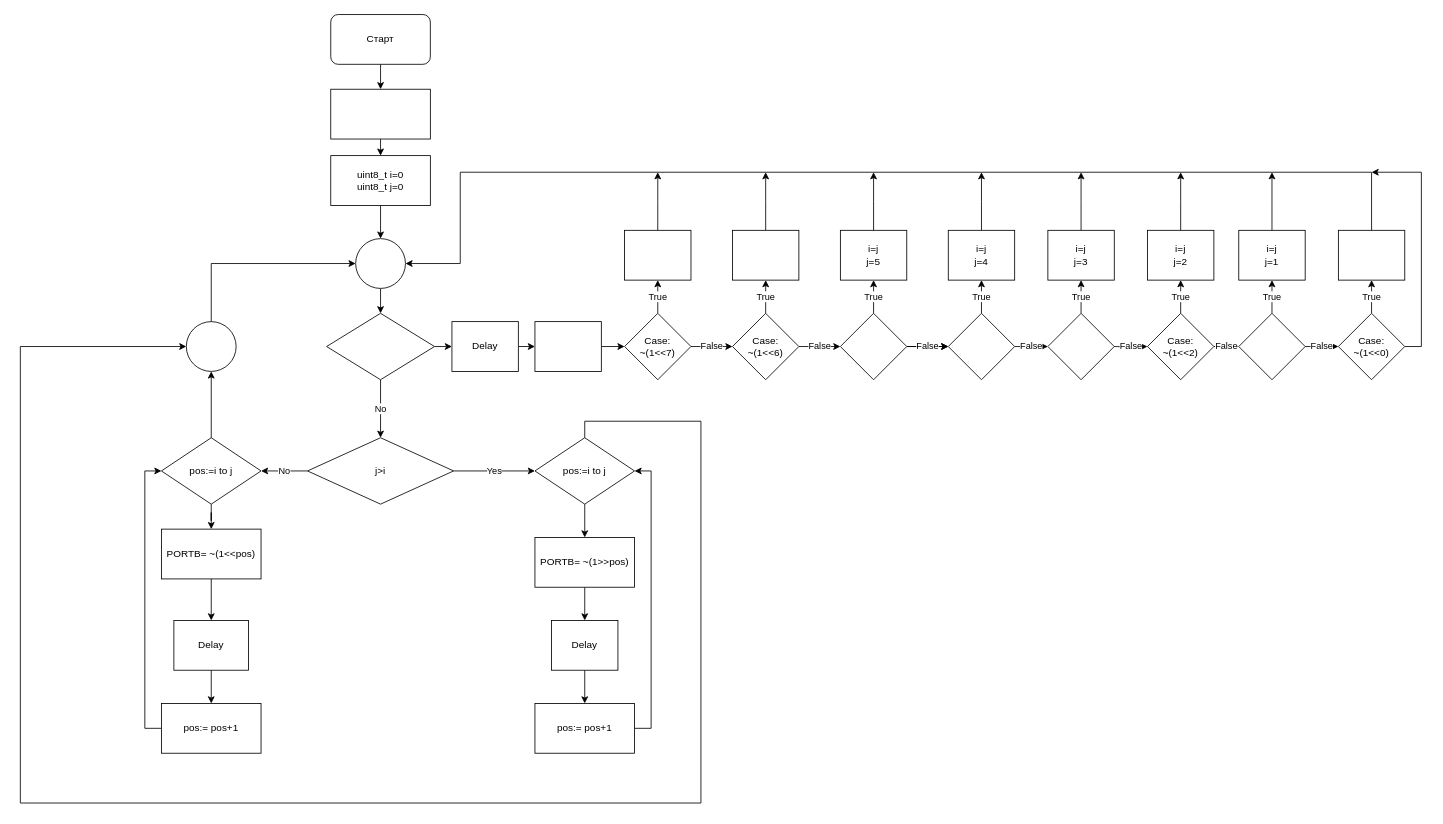
Some shapes in this 1443 by 824 pixel diagram are drawn without their labels. Each missing label, with the centre of its shape:
Case: ~(1<<1): pixel 1271 346
Case: ~(1<<3): pixel 1080 346
Case: ~(1<<4): pixel 981 346
Case: ~(1<<5): pixel 873 346
DDRB= 0xFF; PORTB = 0xFF; DDRD = 0x00; PORTD = 0xFF;: pixel 380 113
i=j j=0: pixel 1371 254
i=j j=6: pixel 765 254
i=j j=7: pixel 657 254
PORTD!=0xFF: pixel 380 346
Switch(PIND): pixel 567 346
